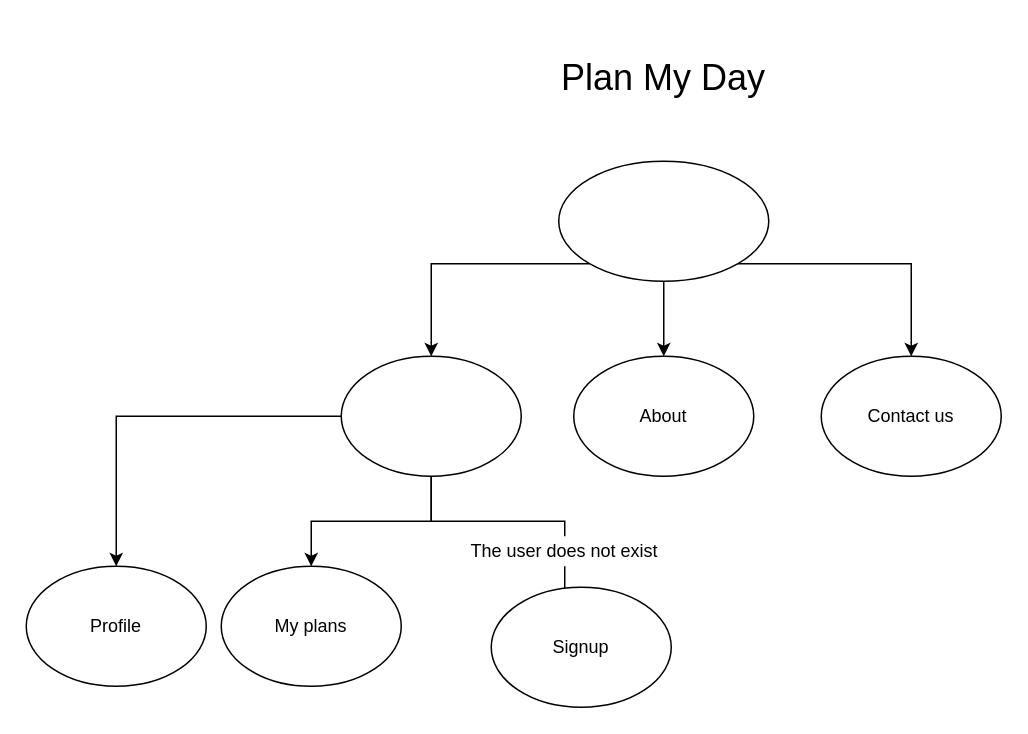
This 1028x734 diagram has some shape labels left out. Here are the shapes that lost their labels. From the top down, the centre of each, then its label:
point (663, 220): Home
point (430, 415): Login
